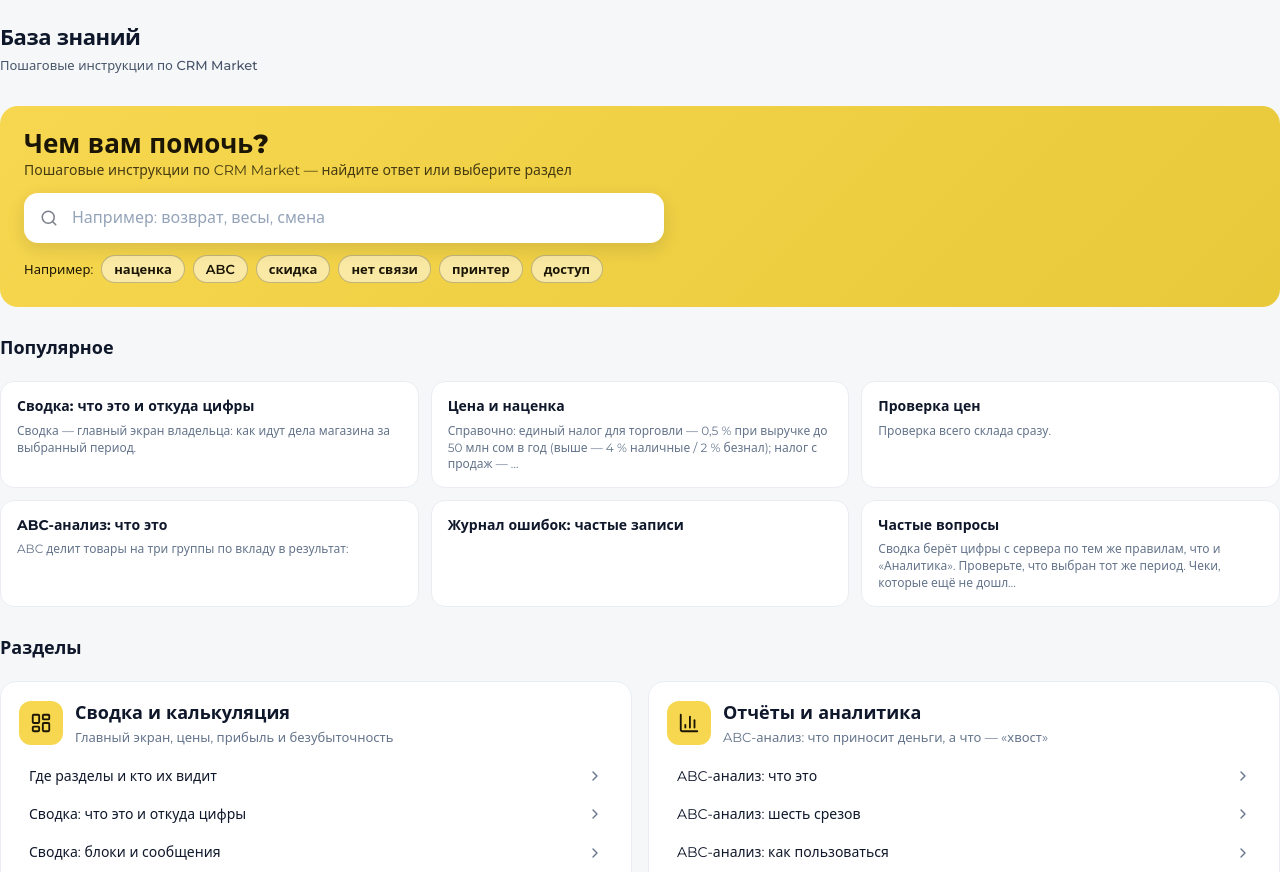
Scenario: База знаний › показывает разделы, статью и ищет по ключевым словам
Expected: the 1st text "Сводка: что это и откуда цифры" is shown, [17,396,254,417]
In the search field with placeholder "Например: возврат, весы, смена": [344, 218] box [24,192,664,242], type "денежный ящик"
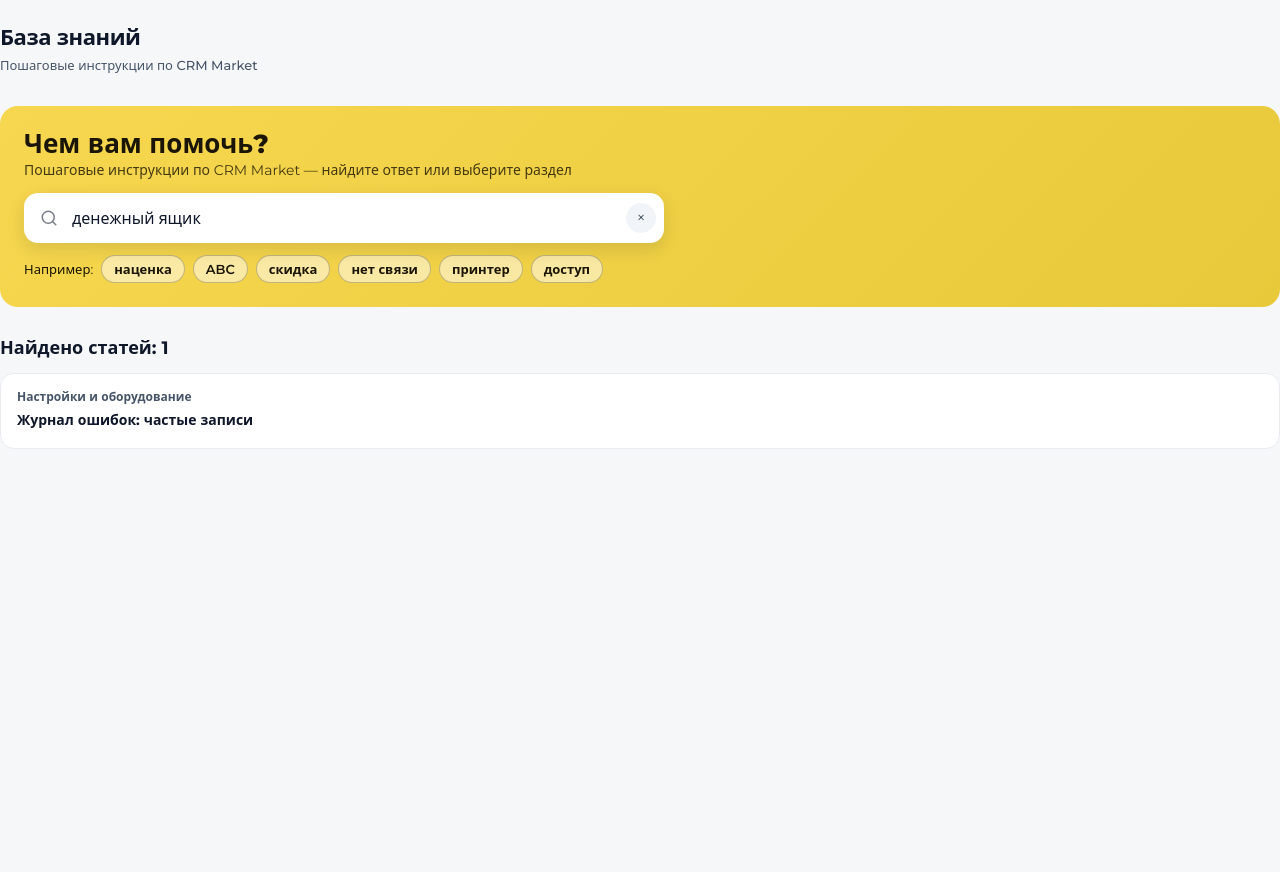
Expected: the text "Журнал ошибок: частые записи" is shown, [17,410,253,430]
Replace the text in the search field with placeholder "Например: возврат, весы, смена" with "несуществующее": [344, 218] box [24,192,664,242]
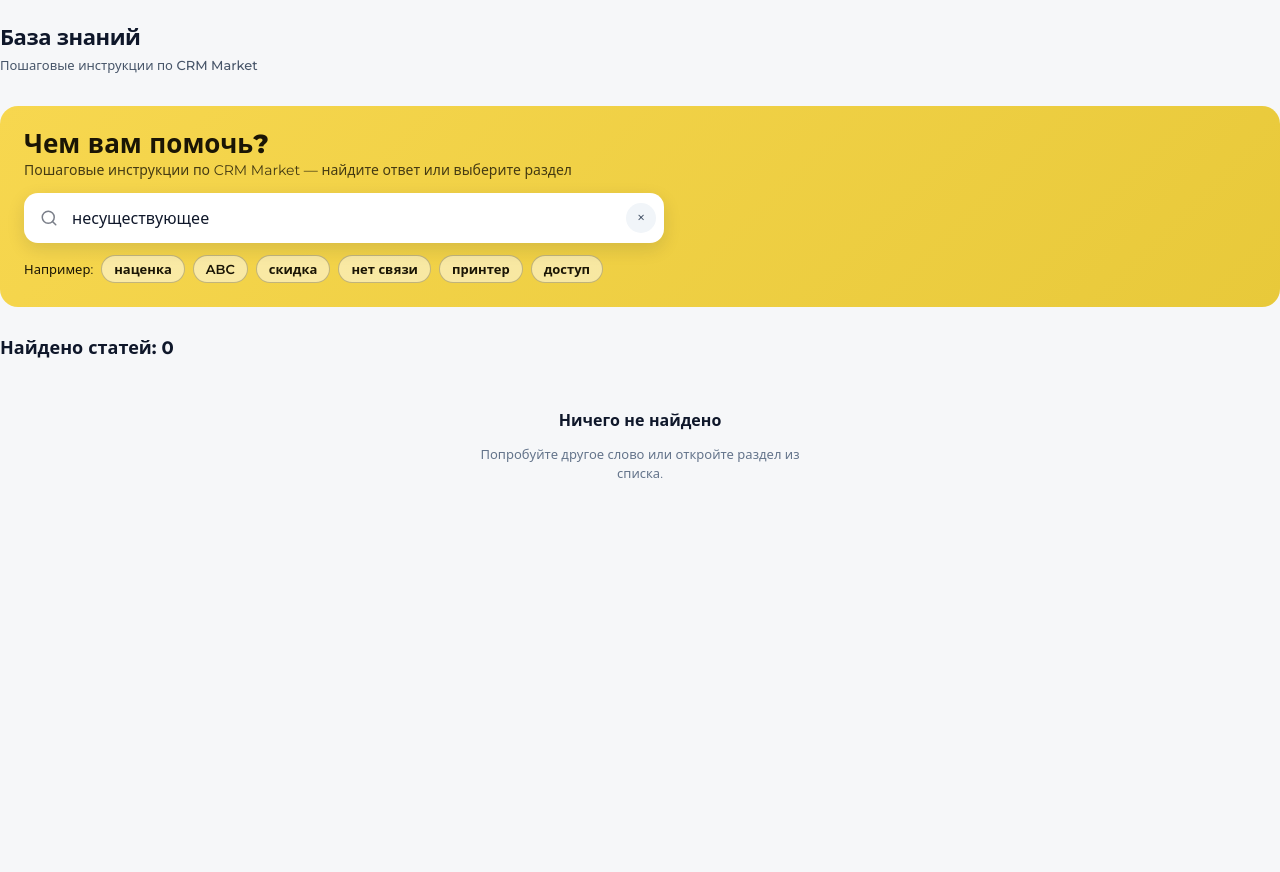
Now the heading "Ничего не найдено" is shown, box [559,410,721,433]
